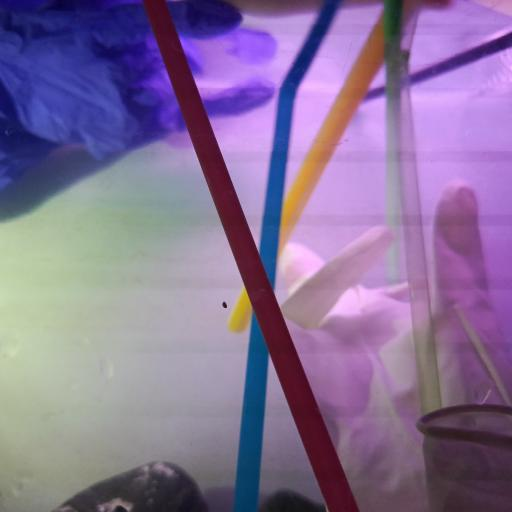glove: (273, 178, 512, 512), (0, 4, 276, 197)
plastic_straw: (143, 0, 360, 512), (228, 0, 420, 337), (230, 1, 339, 512), (382, 0, 446, 420), (364, 32, 512, 102)
